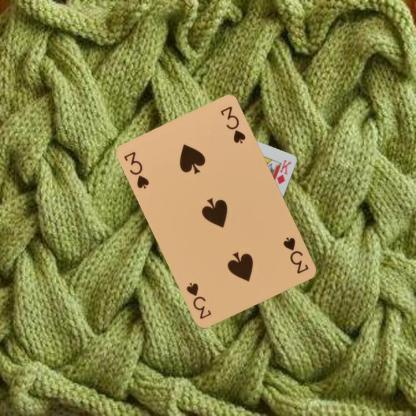3s: (121, 149, 151, 191), (281, 234, 311, 275)
